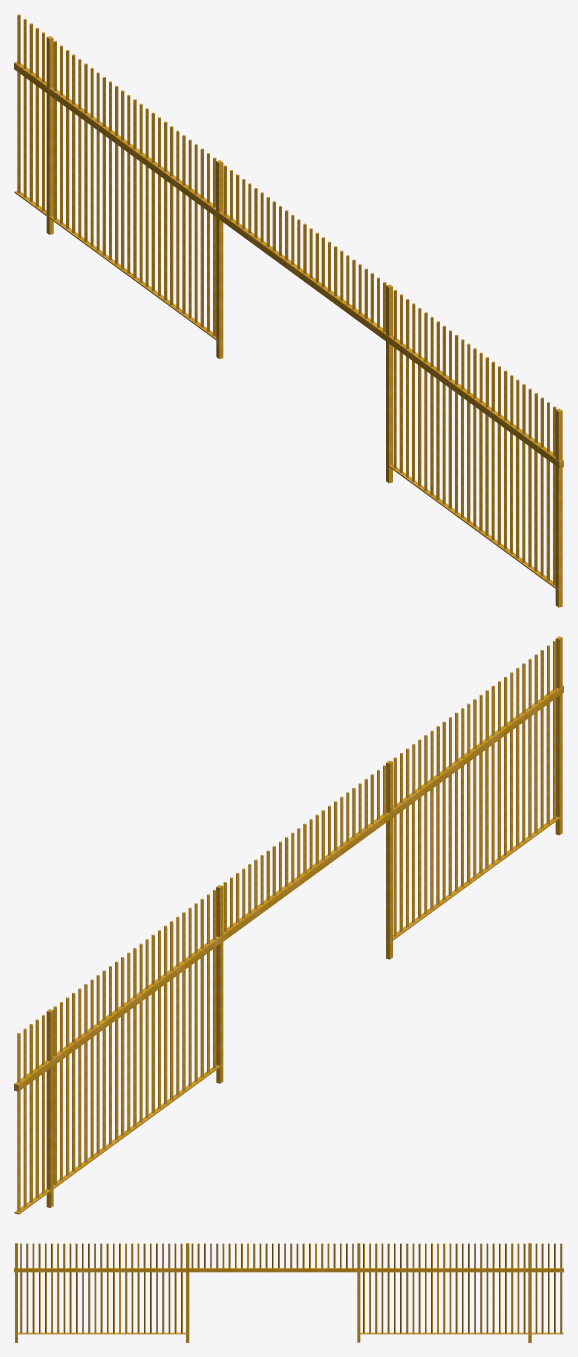
Rendered from Puerta_Reja.obj.
The picture shows the model from 3 angles, top to bottom: view 1: azimuth 30°, elevation 25°; view 2: azimuth 150°, elevation 25°; view 3: azimuth 270°, elevation 25°; orthographic projection. The views are drawn at different scales.
Visible parts, largest first — view 1: MarcoHorz002, Marco006, Marco004, Marco003, MarcoHorz003, Marco005, MarcoHorz004; view 2: MarcoHorz002, Marco004, Marco003, MarcoHorz003, Marco005, Marco006, MarcoHorz004; view 3: MarcoHorz002, MarcoHorz003, MarcoHorz004, Marco003, Marco004, Marco005, Marco006, Barrita001, Barrita003, Barrita006, Barrita008, Barrita012 (+28 smaller).
Part boxes in pixels (x1,y1,x2,y2): MarcoHorz002: (14,62,563,468); Marco006: (555,466,562,607); Marco004: (216,217,223,358); Marco003: (46,93,53,234); MarcoHorz003: (14,191,217,341); Marco005: (386,342,392,483); MarcoHorz004: (388,464,557,590); MarcoHorz002: (14,685,563,1091); Marco004: (216,942,223,1083); Marco003: (46,1066,53,1207); MarcoHorz003: (14,1065,221,1214); Marco005: (386,818,392,959); Marco006: (555,693,562,835); MarcoHorz004: (392,816,562,940); MarcoHorz002: (14,1268,563,1272); MarcoHorz003: (359,1332,563,1334); MarcoHorz004: (16,1332,186,1334); Marco003: (528,1272,531,1342); Marco004: (357,1272,360,1342); Marco005: (186,1272,189,1342); Marco006: (15,1272,17,1342); Barrita001: (523,1272,525,1333); Barrita003: (511,1272,513,1333); Barrita006: (492,1272,494,1333); Barrita008: (480,1272,482,1333); Barrita012: (455,1272,457,1333).
Size of the model in its own units: 8 by 325 by 1640.
1 material, 1 textured.
